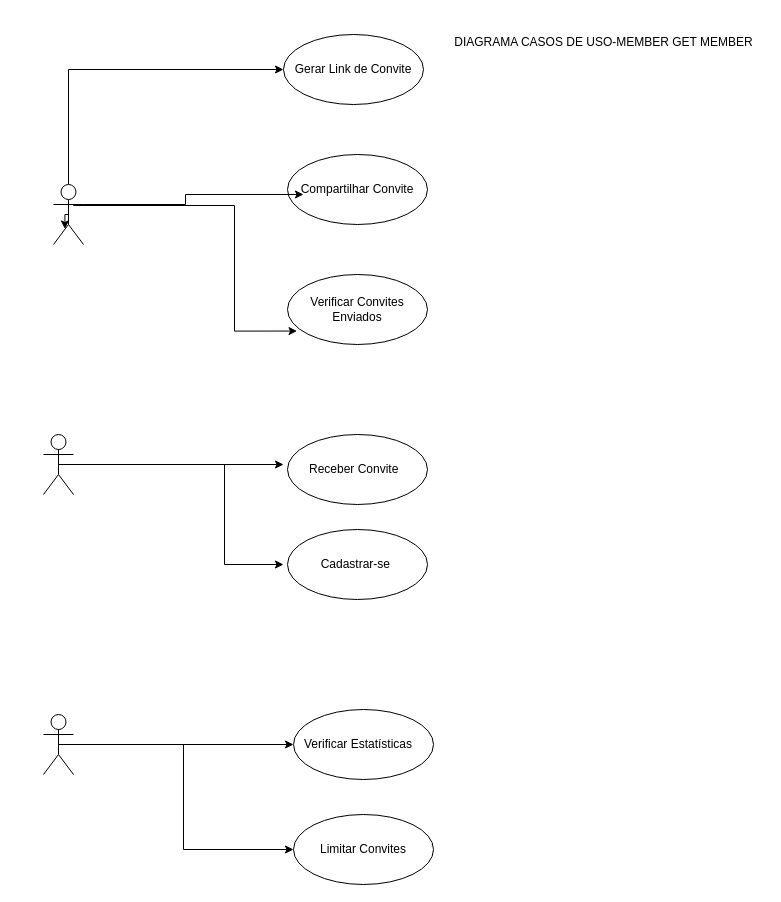
The diagram is 781 pixels wide and 902 high, and some of its shapes have lost their labels. The box of each missing label's shape, as (x1, y1, x2, y2) in pixels:
Novo Usuário: (42, 434, 74, 494)
Sistema: (42, 714, 74, 774)
Usuário Registrado: (52, 184, 84, 244)
